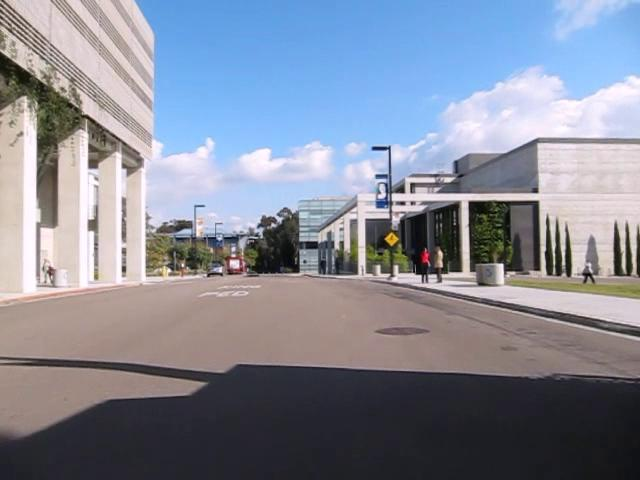pedestrianCrossing: (383, 230, 399, 247)
